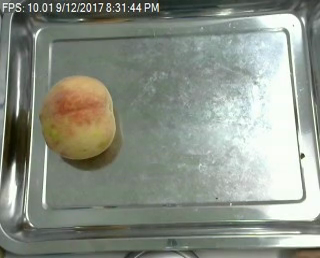Peach: (40, 74, 117, 161)
